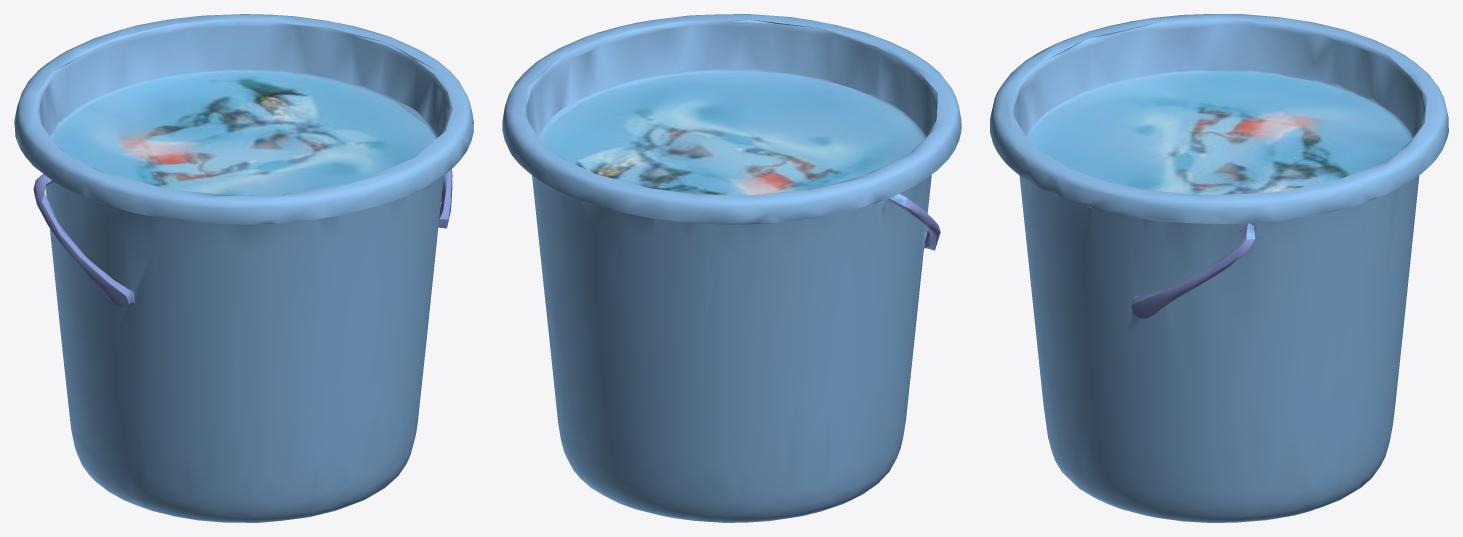
The model's file is bluebucket.glb.
3 views of the same model, side by side, from view 1: azimuth 30°, elevation 25°; view 2: azimuth 150°, elevation 25°; view 3: azimuth 270°, elevation 25° (orthographic).
Visible parts, largest first — view 1: bluebucket; view 2: bluebucket; view 3: bluebucket.
Boxes of the visible parts, x1=… form: bluebucket: x1=14, y1=14, x2=473, y2=522; bluebucket: x1=502, y1=14, x2=961, y2=522; bluebucket: x1=990, y1=14, x2=1448, y2=522.
Bounding box in the file's own units: 0.3573 × 0.3 × 0.3566.
Materials: 1 (1 with a texture image).
